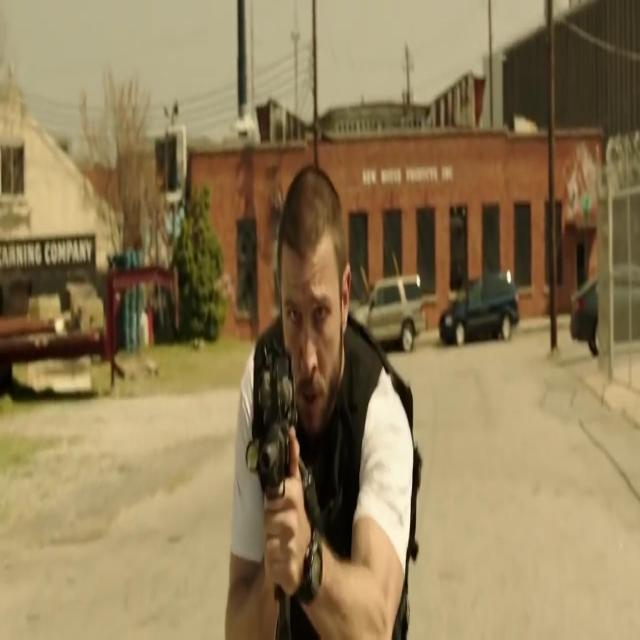Weapon: (243, 321, 327, 585)
